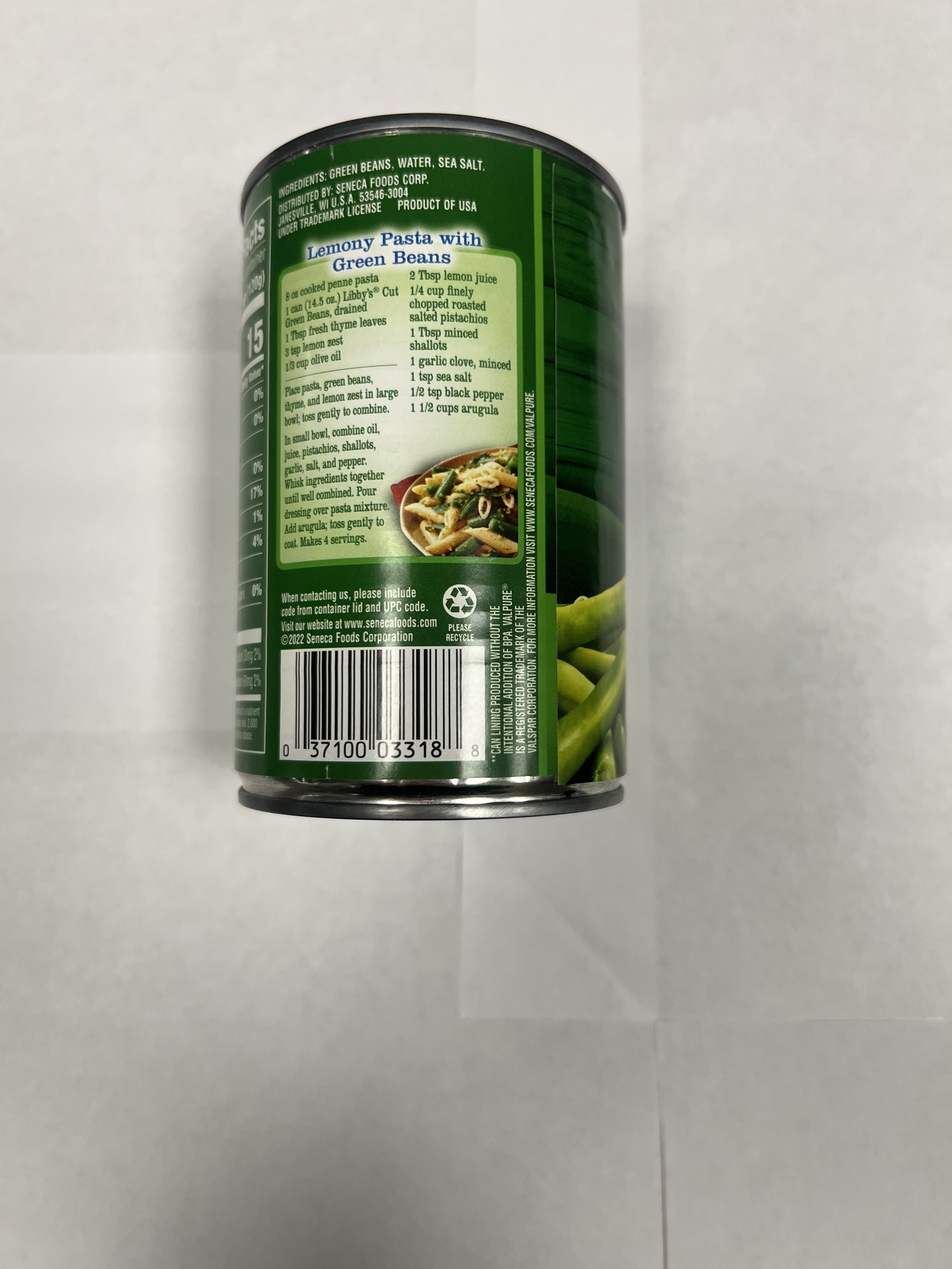packaged: (228, 108, 639, 826)
